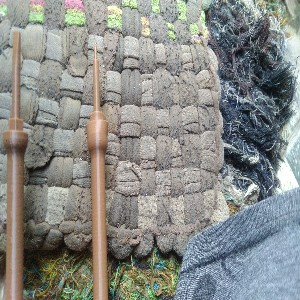obeng: (2, 30, 29, 300)
solder: (85, 41, 109, 300)
